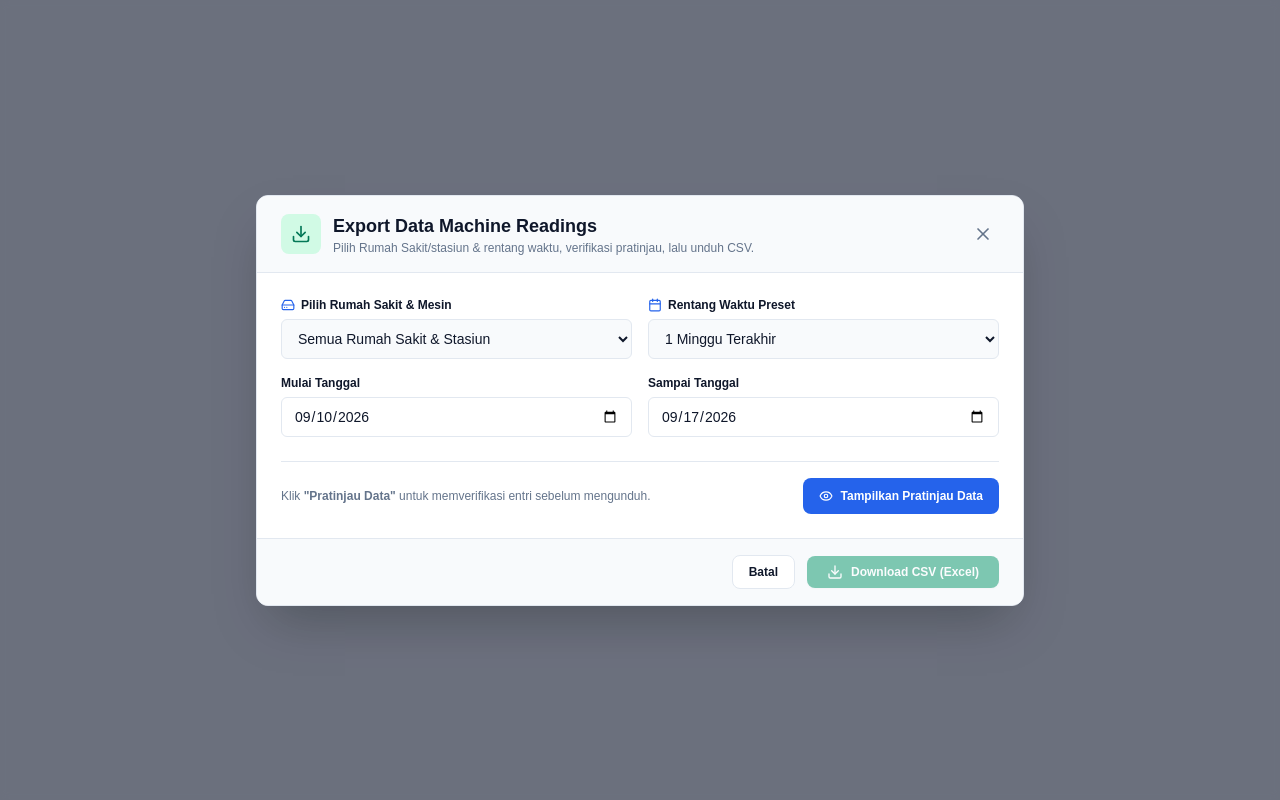
Test: Vessel export preview › shows Vessel zero and unavailable values without conflating them
Click the button "Tampilkan Pratinjau Data" at (901, 496), box [802, 478, 999, 514]
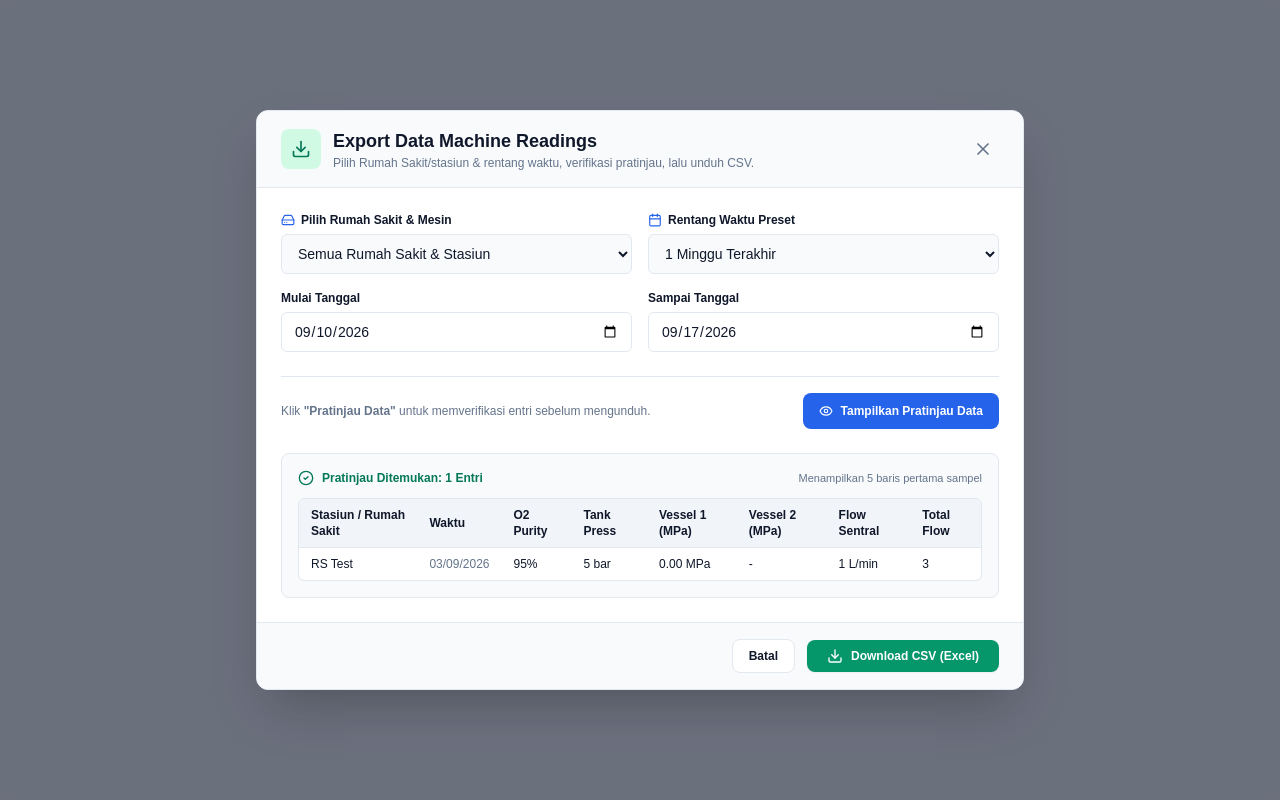
Expected: the text "0.00 MPa" is shown, [647, 548, 737, 580]
Expected: the column heading "Vessel 1 (MPa)" is shown, [647, 499, 737, 548]
Expected: the column heading "Vessel 2 (MPa)" is shown, [737, 499, 827, 548]
